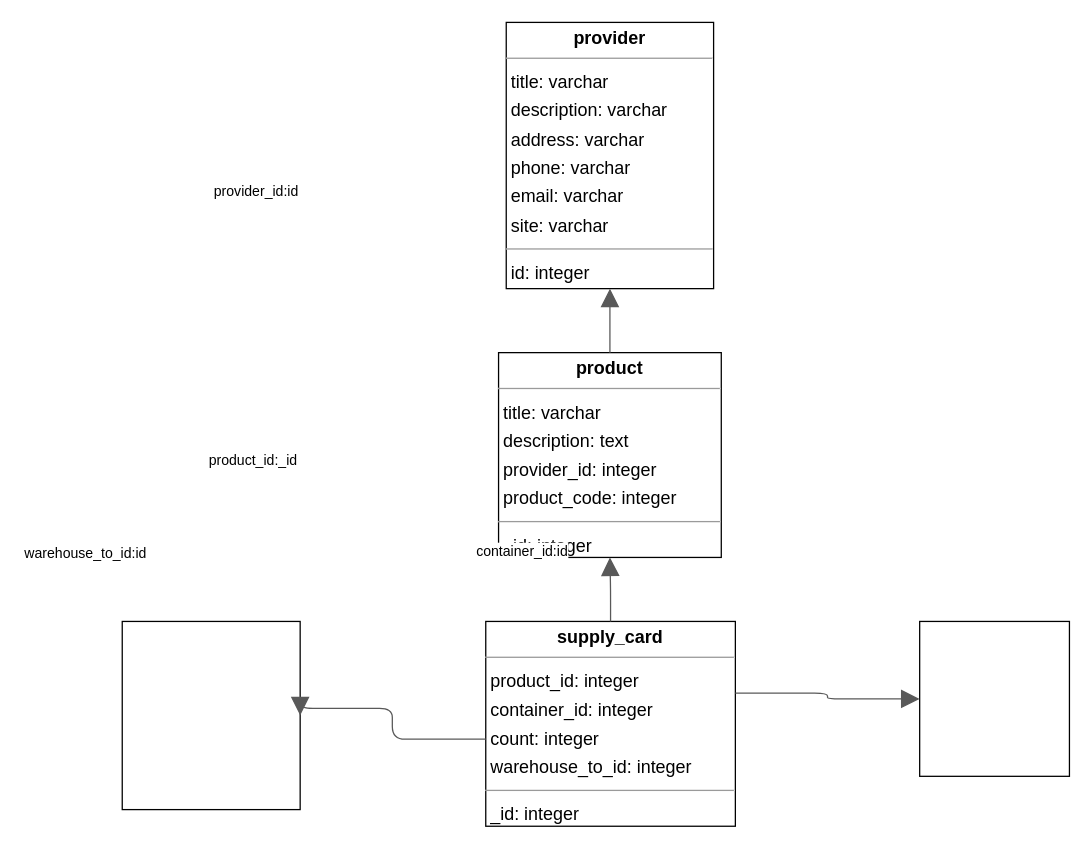
The diagram is 1092 pixels wide and 849 high, and some of its shapes have lost their labels. Each missing label, with the box of its shape:
container code: varchar title: varchar id: integer: (918, 620, 1069, 776)
warehouse code: varchar title: varchar address: varchar id: integer: (121, 620, 300, 810)
